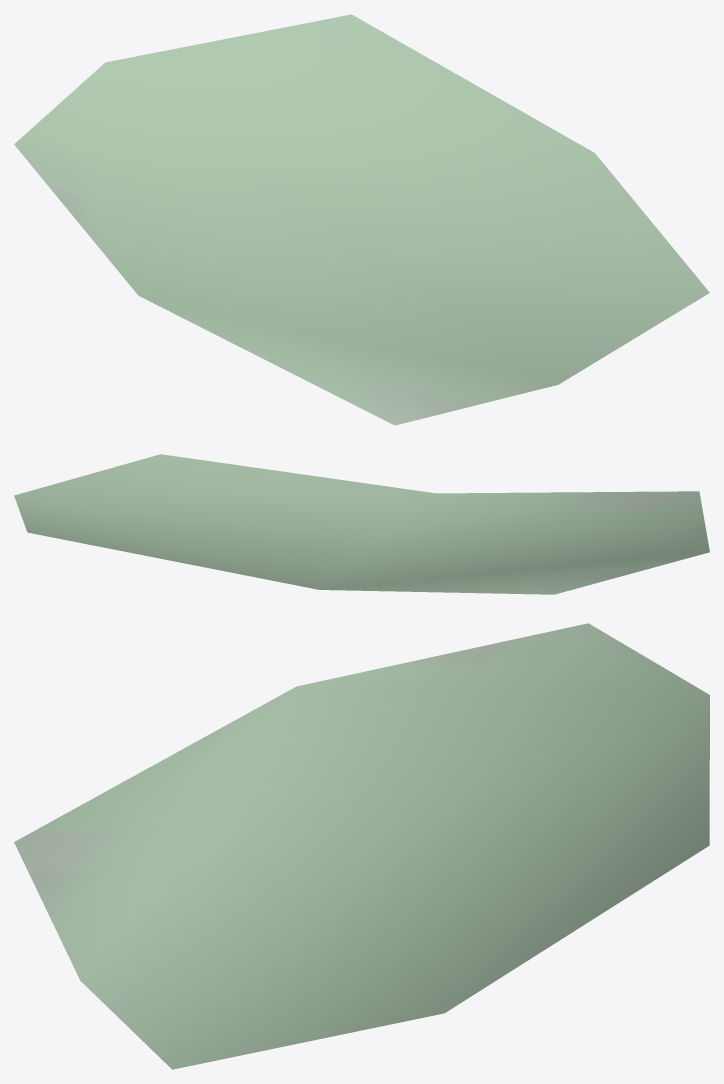
Rendered from TROLLHOLE02_HOLECAP194.fbx.
3 views of the same model, one above another, from view 1: azimuth 30°, elevation 25°; view 2: azimuth 150°, elevation 25°; view 3: azimuth 270°, elevation 25° (orthographic). The views are drawn at different scales.
Visible parts, largest first — view 1: TROLLHOLE02_HOLECAP194; view 2: TROLLHOLE02_HOLECAP194; view 3: TROLLHOLE02_HOLECAP194.
Part boxes in pixels (x1=…): TROLLHOLE02_HOLECAP194: x1=14, y1=14, x2=709, y2=425; TROLLHOLE02_HOLECAP194: x1=14, y1=454, x2=709, y2=594; TROLLHOLE02_HOLECAP194: x1=14, y1=623, x2=709, y2=1069.
Size of the model in its own units: 13148 by 3947 by 13315.
1 material, 1 textured.
